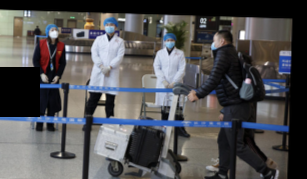with_mask: (48, 27, 59, 39), (104, 22, 115, 34), (164, 38, 175, 50), (210, 37, 219, 51)
